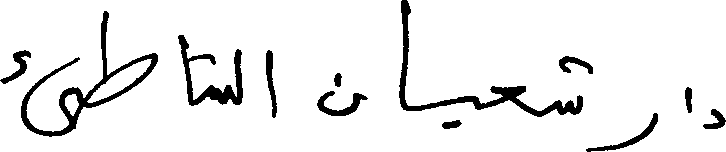ئ: (0, 48, 77, 137)
ا: (397, 0, 411, 111), (178, 32, 192, 105), (263, 48, 277, 118), (683, 84, 693, 114)
د: (701, 106, 723, 129)
ر: (610, 104, 659, 151)
س: (541, 92, 587, 120)
ش: (206, 52, 227, 105)
ط: (82, 8, 157, 109)
ع: (488, 84, 526, 113)
ل: (232, 46, 241, 105)
ن: (315, 70, 361, 116)
ي: (441, 93, 480, 130)
